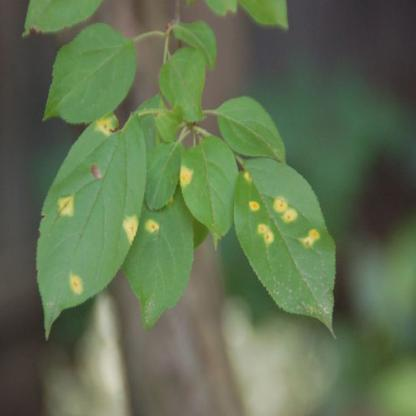Apple rust leaf: (35, 98, 146, 362), (232, 140, 343, 357), (110, 142, 198, 346), (177, 132, 242, 255)
